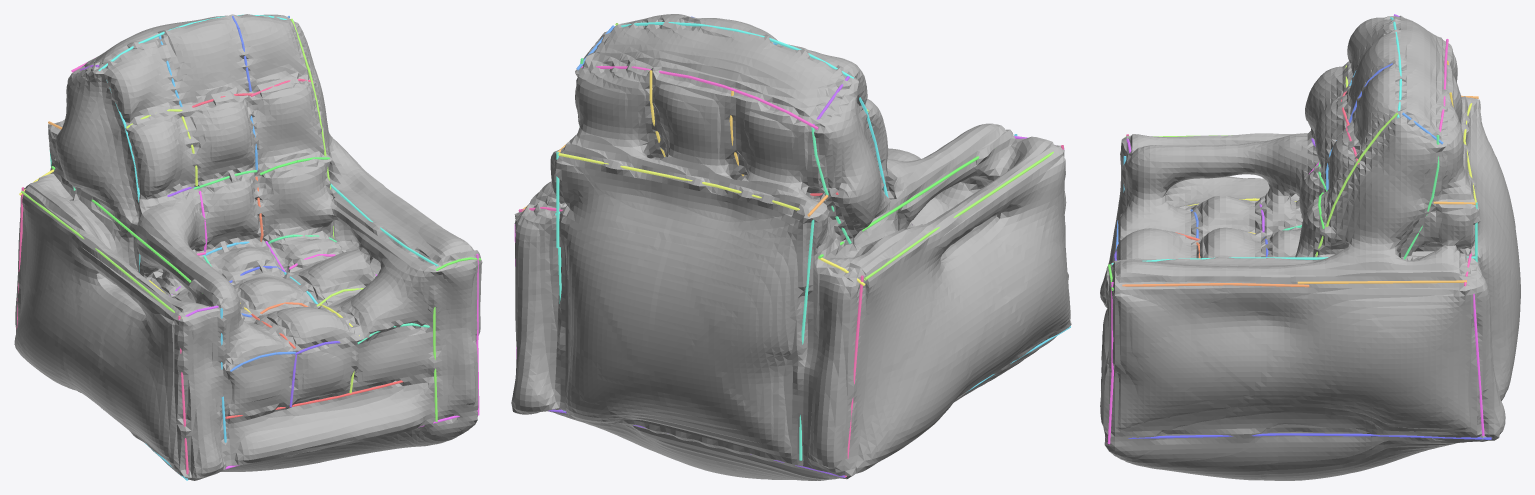
The model's file is author2_sofa.gltf.
The picture shows the model from 3 angles, left to right: view 1: azimuth 30°, elevation 25°; view 2: azimuth 150°, elevation 25°; view 3: azimuth 270°, elevation 25°; orthographic projection. The views are drawn at different scales.
Size of the model in its own units: 0.6215 by 0.7058 by 0.6667.
